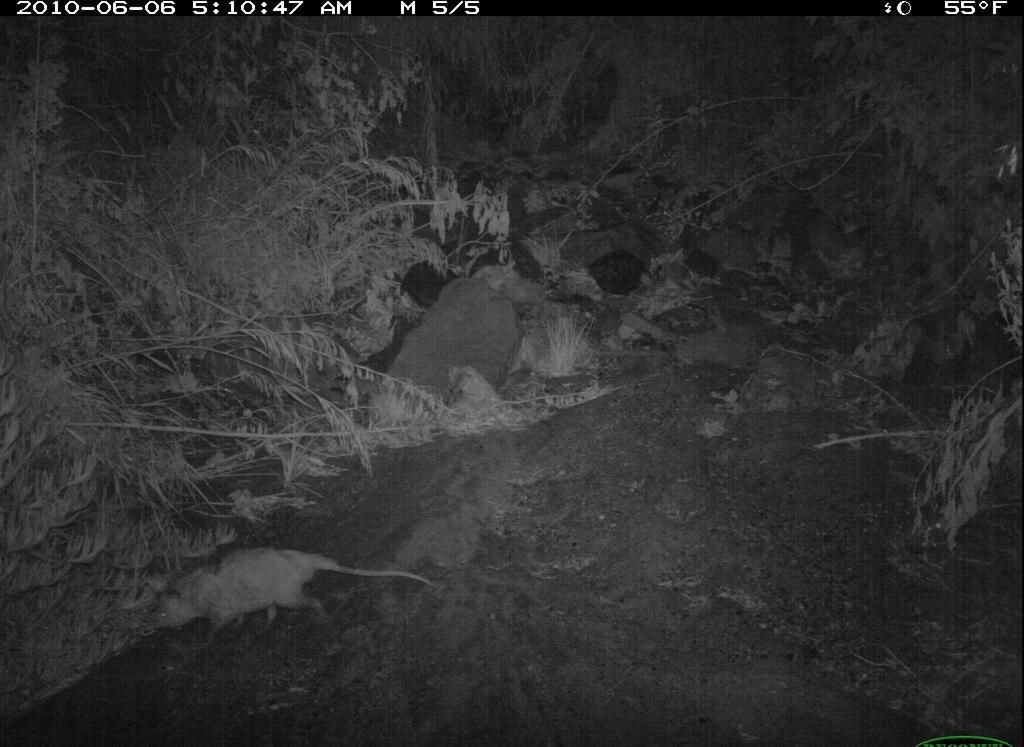opossum: (130, 539, 447, 647)
